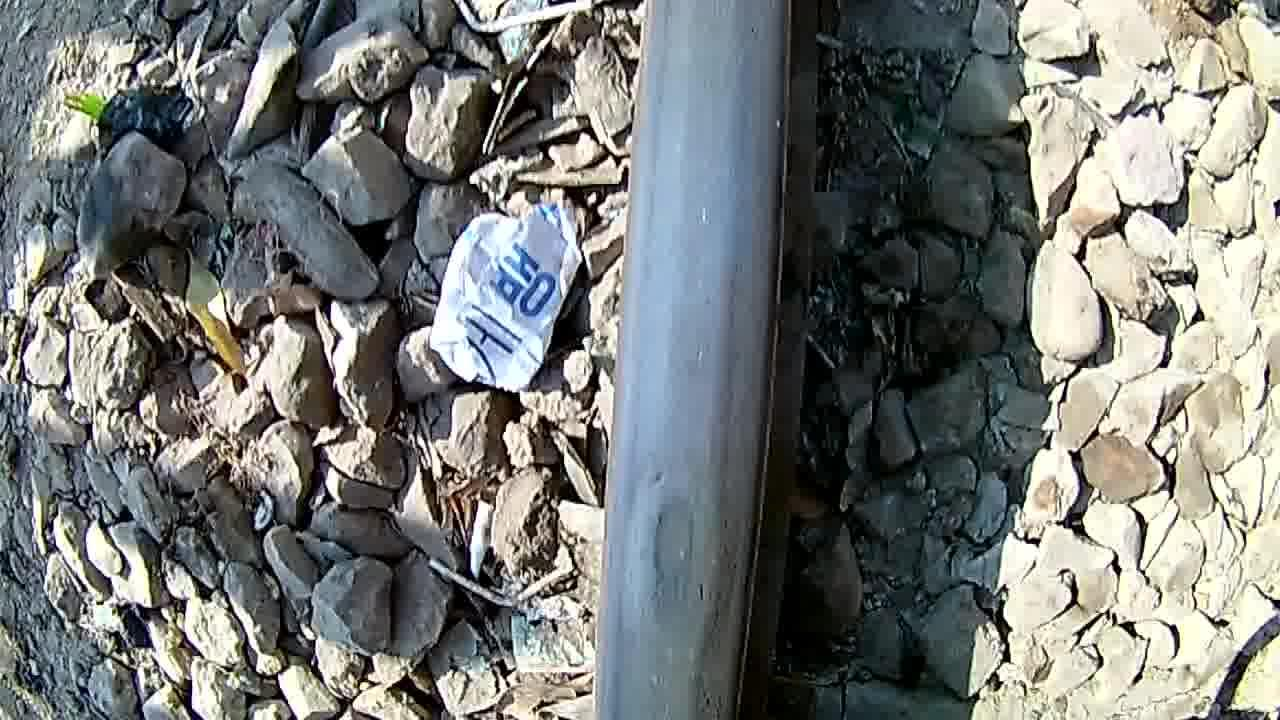bolt_missing: (601, 429, 767, 687)
